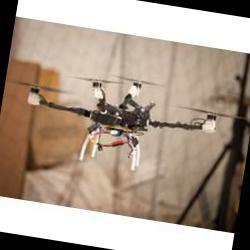drone: (0, 50, 244, 185)
